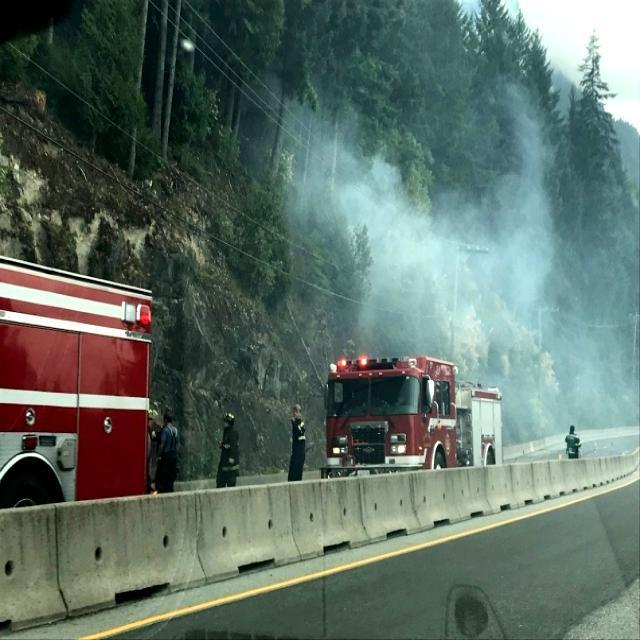Smoke: (322, 64, 633, 424)
